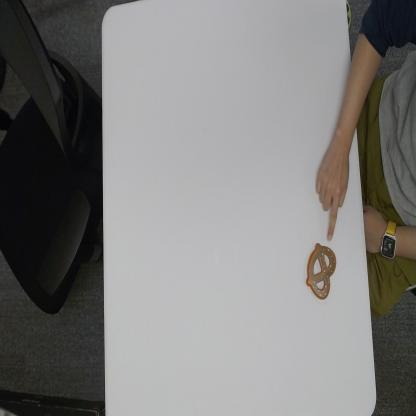Arm: (331, 0, 395, 127)
Hand: (315, 136, 352, 240)
Pretzel: (306, 243, 339, 300)
